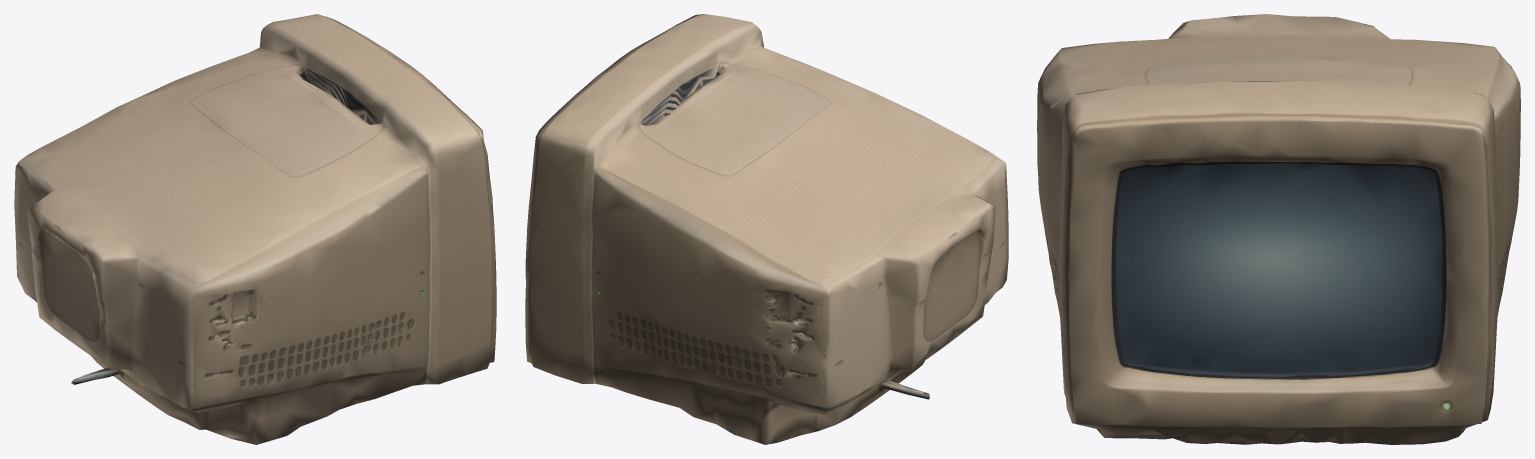
The model's file is VAR_Computer_GiantMonitor.fbx.
3 renders of one model, left to right at view 1: azimuth 30°, elevation 25°; view 2: azimuth 150°, elevation 25°; view 3: azimuth 270°, elevation 25°, orthographic. The views are drawn at different scales.
Parts seen in each view (by area): view 1: texture_mapping; view 2: texture_mapping; view 3: texture_mapping.
Boxes of the visible parts, x1,y1,x2,y2 form: texture_mapping: (14,14,496,444); texture_mapping: (525,14,1008,444); texture_mapping: (1037,14,1520,444).
Bounding box in the file's own units: 1 × 0.9546 × 0.7234.
Materials: 1 (1 with a texture image).
